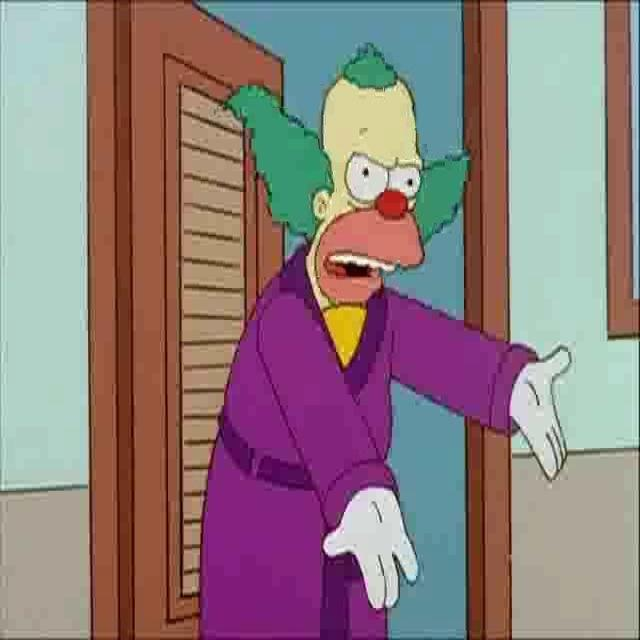Krusty the Clown: (227, 45, 473, 310)
